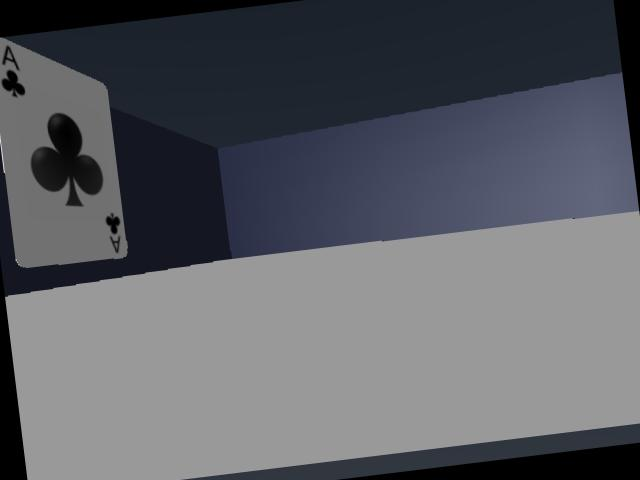club: (0, 38, 127, 267)
